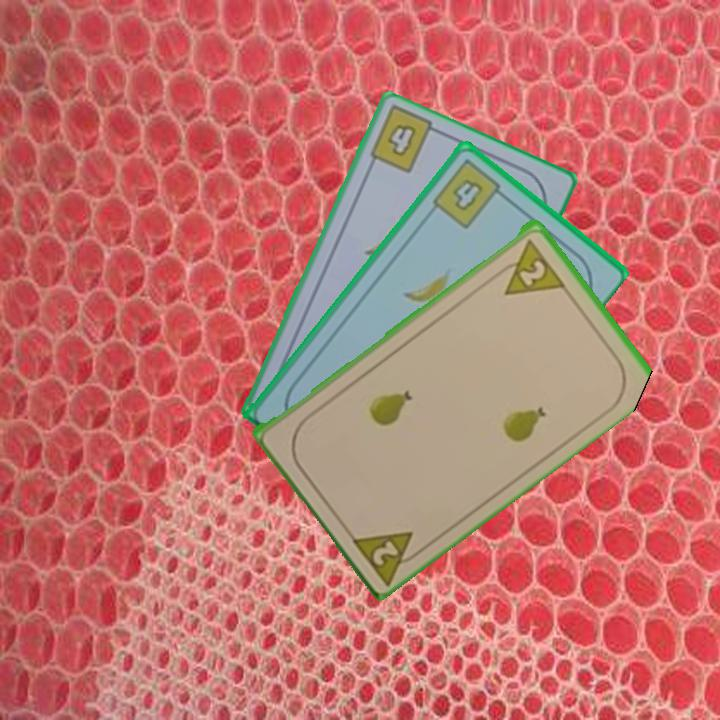2p: (346, 526, 429, 586), (491, 235, 567, 298)
4b: (428, 155, 510, 232), (383, 119, 419, 160)
